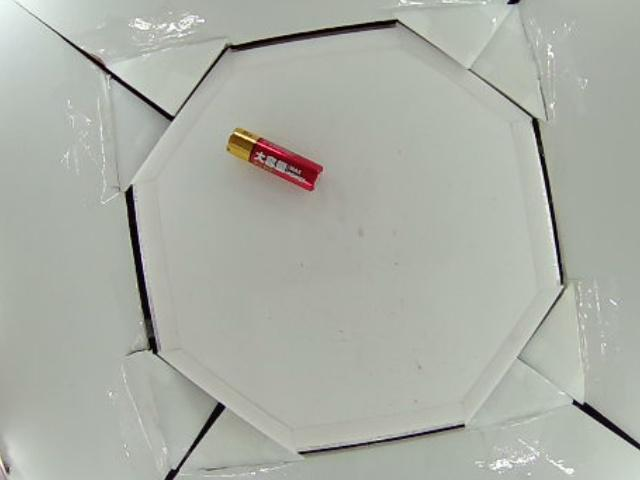Battery: (225, 127, 325, 194)
